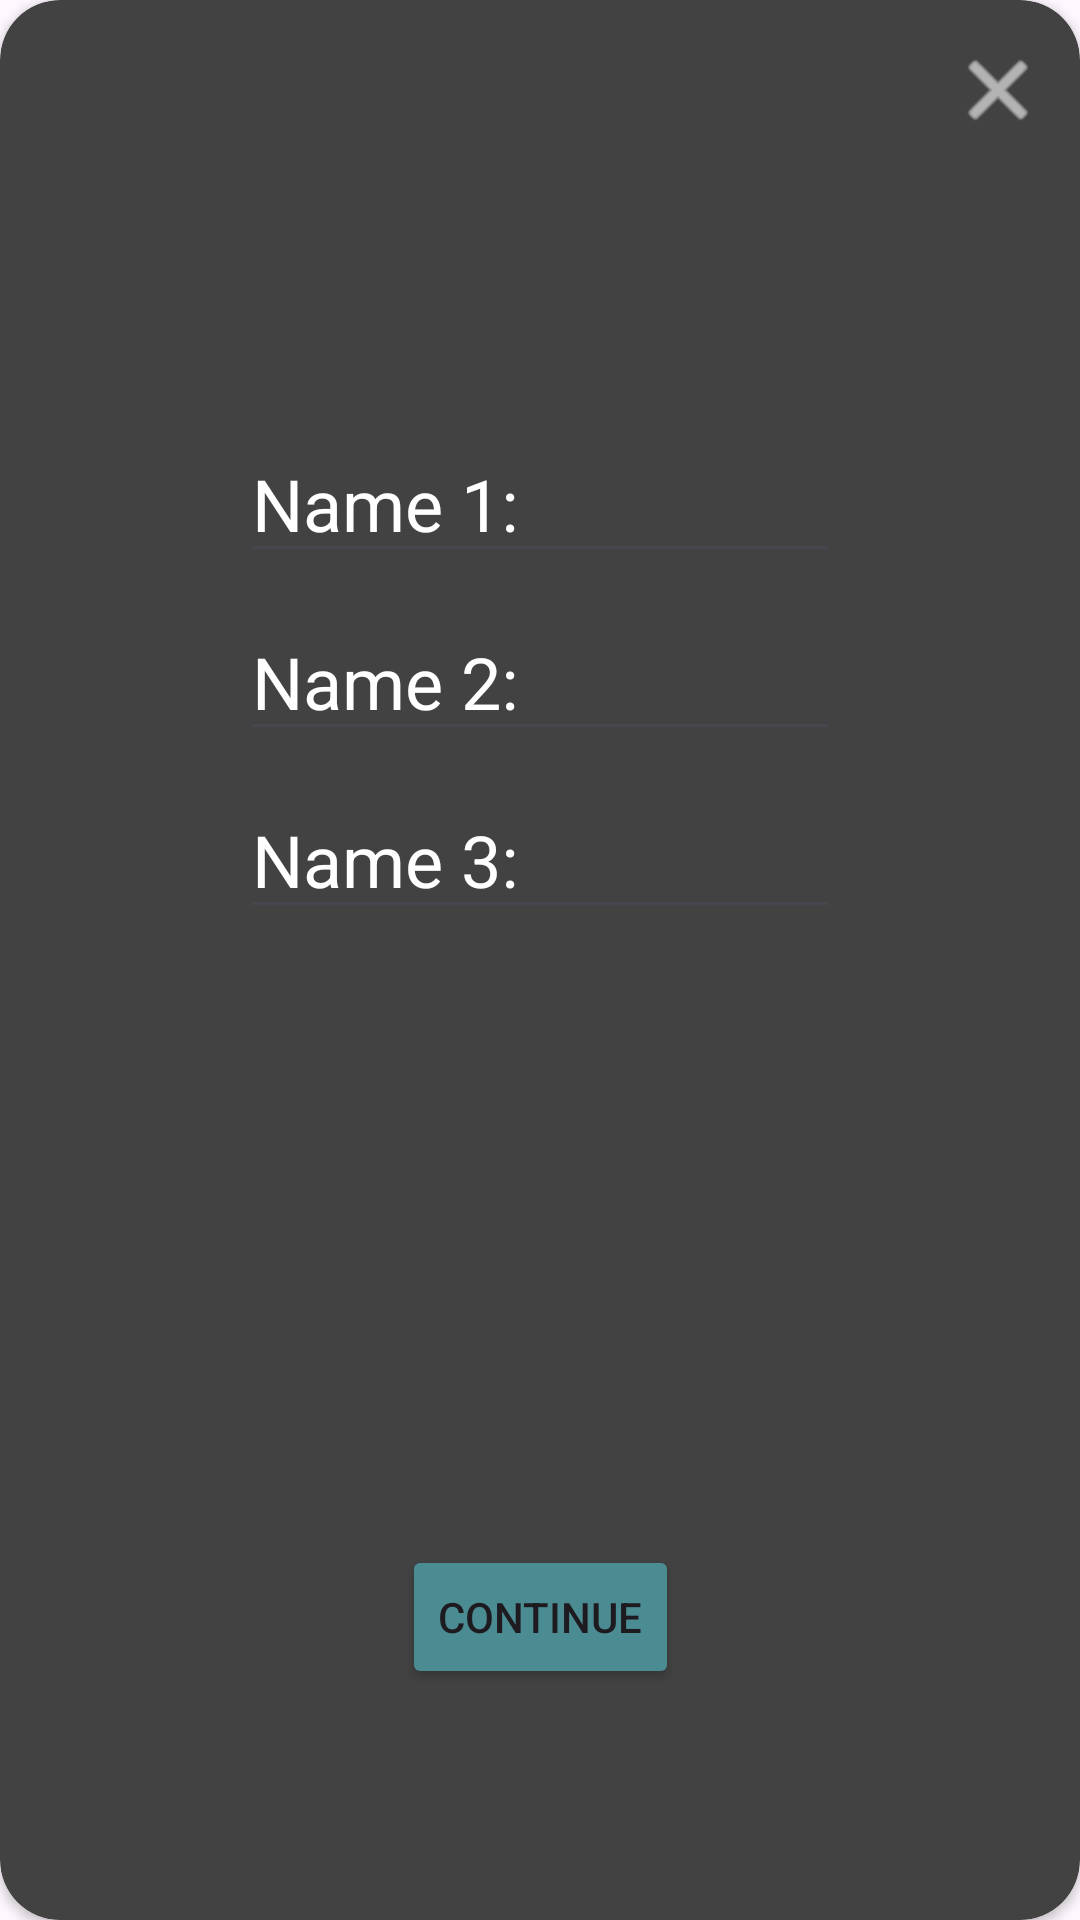

Where icons sit on this 1080x1920 app screen, as (x1, y1, x2, y2):
close clear cancel: (968, 60, 1028, 120)
